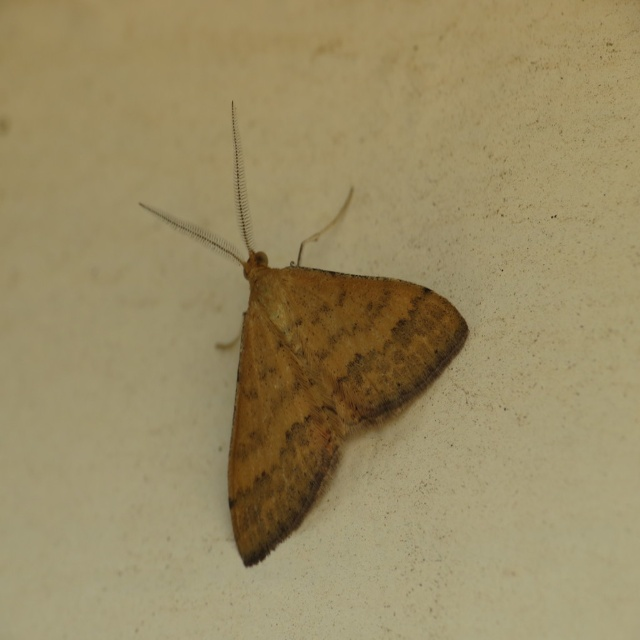Butterfly: (156, 113, 469, 560)
